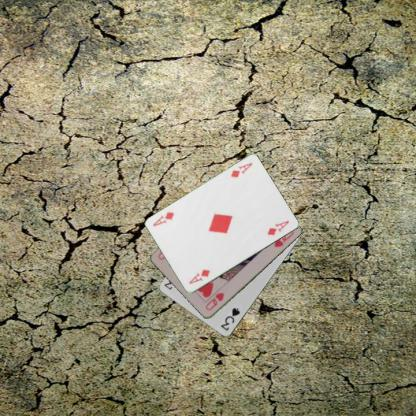3s: (218, 305, 241, 332)
Ad: (228, 160, 254, 179), (186, 267, 211, 285)
Qh: (203, 290, 225, 312)
